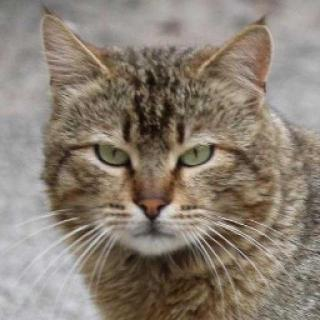cat: (36, 8, 272, 267)
nose: (130, 171, 174, 224)
